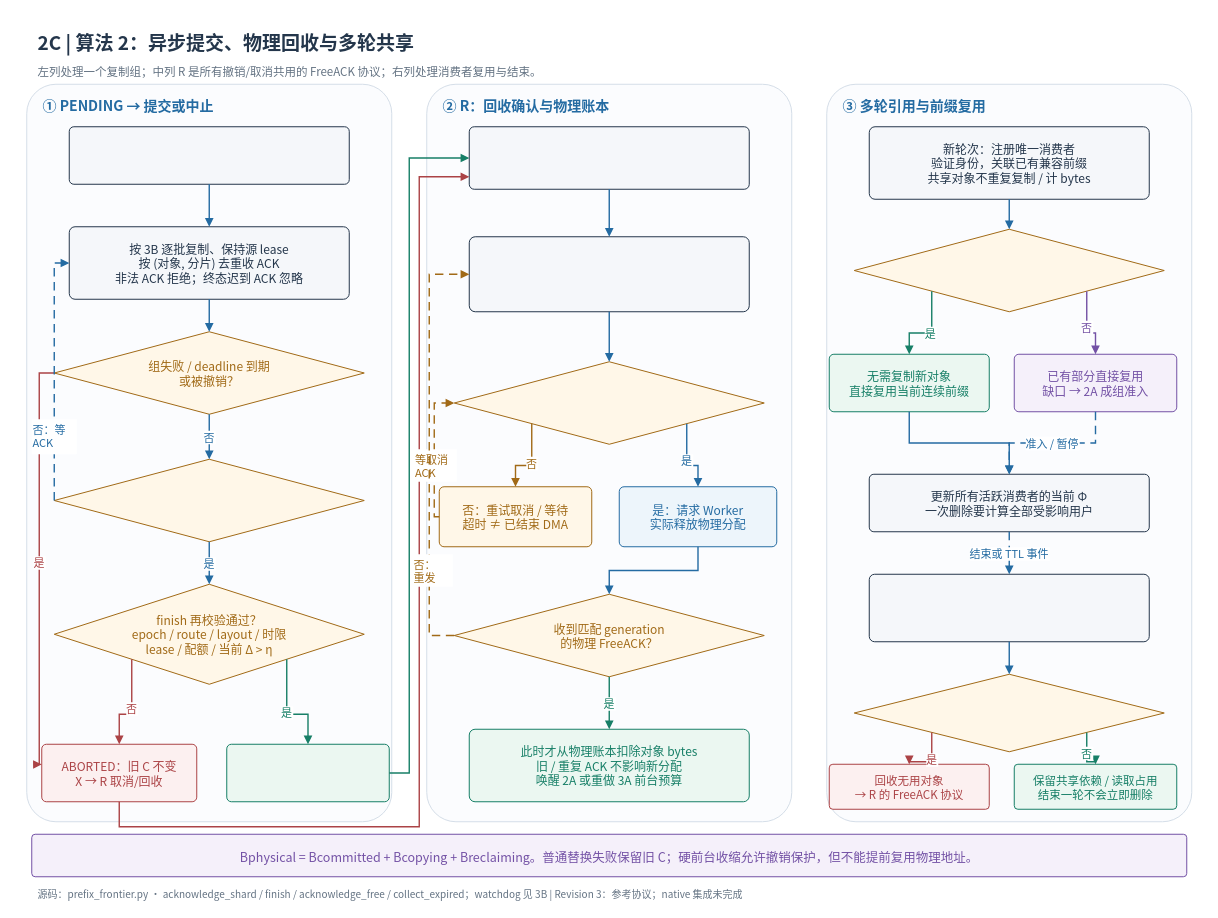
The diagram is 1218 pixels wide and 918 high, and some of its shapes have lost their labels. The shapes that lost their labels are listed below. From the top down, each one's centre as x and y in pixels, then its label:
At point (209, 155): "进入：begin 已在 Q 内预留 X PENDING 不可恢复，旧 C 仍可读".
At point (609, 158): "R：替换 victims Y / 失败组 X 压力撤销 / 最后引用过期的对象".
At point (609, 274): "保留每个对象的 reclaim ID / generation 撤销恢复可见性，禁止新读 仍计入 RECLAIMING 物理占用".
At point (1009, 270): "已生成 KV 全部有 兼容 COMMITTED 副本？".
At point (609, 402): "所有读和 DMA 已完成 或取消已有确认？".
At point (209, 500): "所有预期分片 ACK 齐全？".
At point (1009, 608): "轮次结束：移除活跃恢复价值 可保留零权重、可驱逐的 TTL 引用 TTL 到期时移除该引用".
At point (1009, 713): "无引用、无读取 pin 且不被存活后代依赖？".
At point (308, 773): "原子发布 (C \ Y) ∪ X COMMITTED；Y → R".
